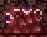altar: (1, 1, 47, 37)
